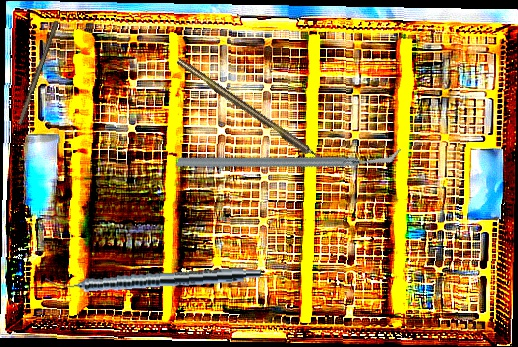Chopper: (175, 70, 403, 245)
Handpiece: (44, 261, 262, 297)
Hook Surgical: (175, 56, 332, 170)
Scalpel Handle: (15, 19, 60, 127)
